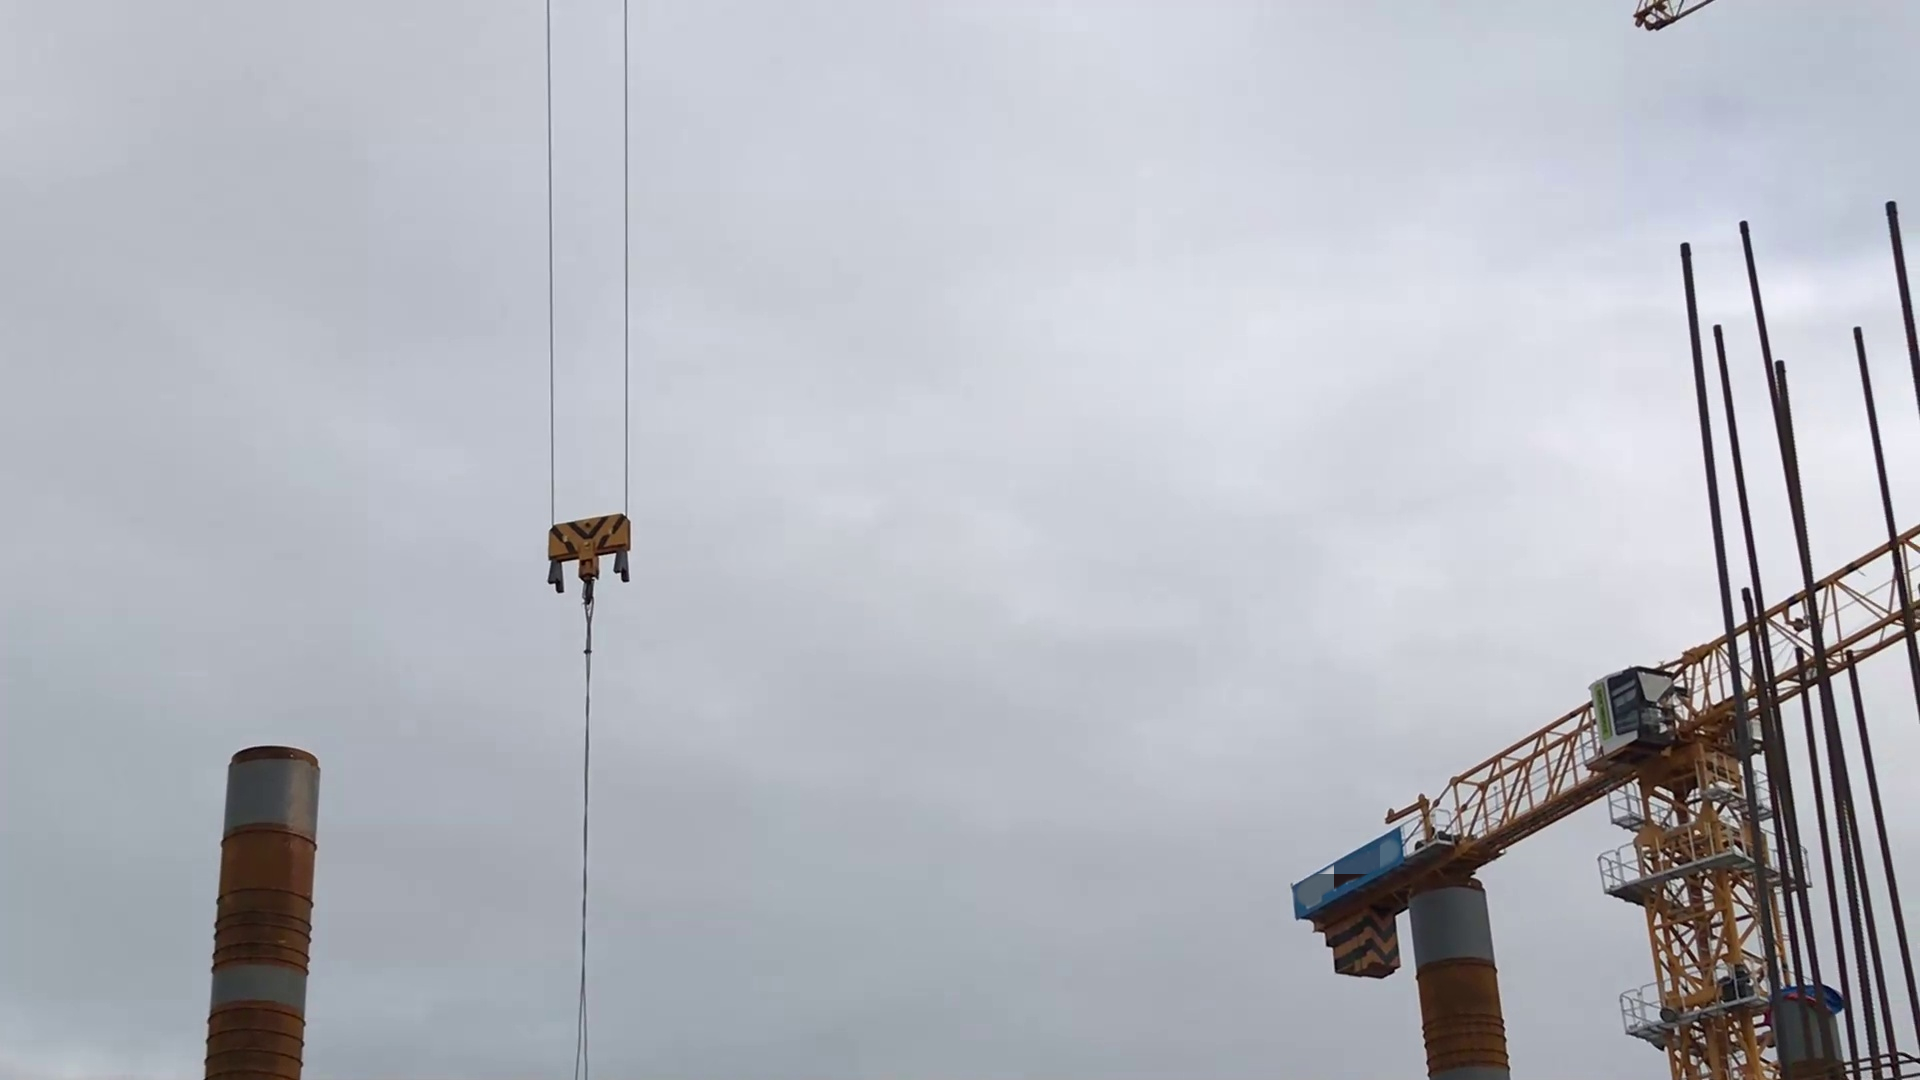hook: (539, 502, 640, 618)
